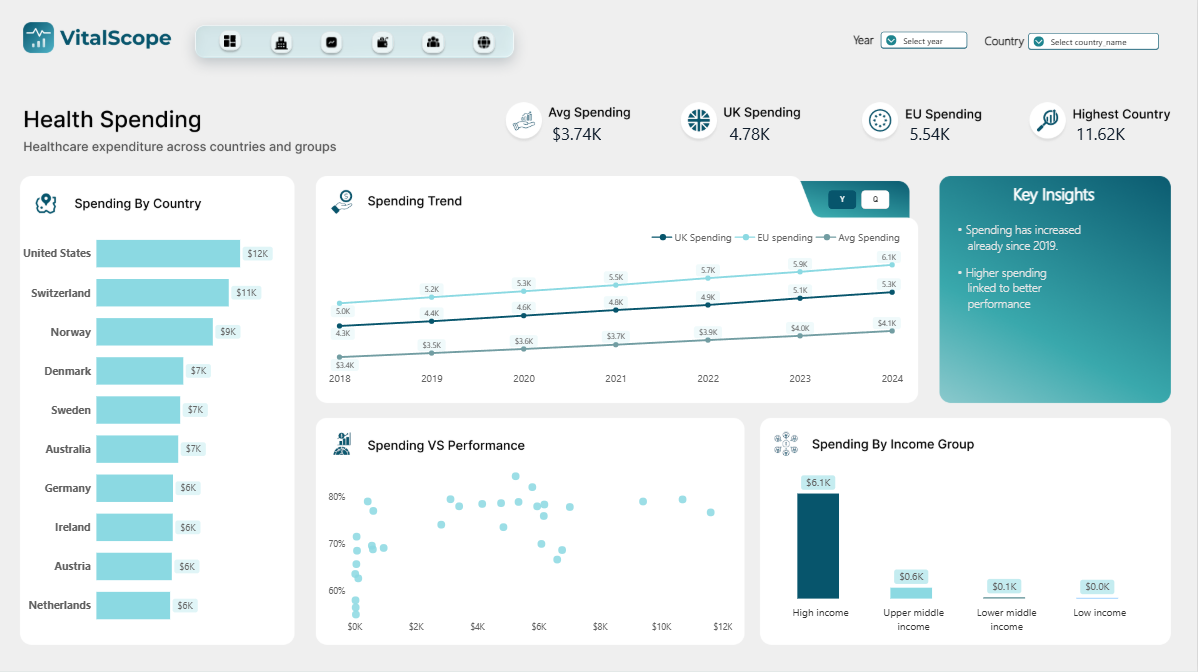

The page's visual inventory and layout, read from the dashboard file:
{"tool":"powerbi","page":{"name":"Health Spending","canvas":[1920,1080],"ordinal":3},"visuals":[{"type":"actionButton","box":[355.6,49.3,34,32.3],"z":0},{"type":"actionButton","box":[438.9,51,34,34],"z":1000},{"type":"actionButton","box":[518.9,51,34,34],"z":2000},{"type":"actionButton","box":[600.6,51,34,34],"z":3000},{"type":"actionButton","box":[680.5,51,35.7,34],"z":4000},{"type":"actionButton","box":[762.2,51,34,34],"z":5000},{"type":"listSlicer","fields":{"Values":["dim_country.country_name"]},"box":[1634.7,40.8,240.8,71],"z":6000},{"type":"textbox","box":[1580,53.3,70,25],"z":7000},{"type":"textbox","box":[1370.2,52.6,57.9,38.6],"z":8000},{"type":"listSlicer","fields":{"Values":["dim_date.year"]},"box":[1398.2,38.6,170.2,70.2],"z":9000},{"type":"textbox","box":[1522.7,338.6,280.7,316.4],"z":10000},{"type":"textbox","box":[1626.8,291.1,189.3,114.3],"z":11000},{"type":"advancedSlicerVisual","fields":{"Values":["trends.trends"]},"box":[1330,306,98,30],"z":12000},{"type":"cardVisual","fields":{"Data":["_Measures.Avg Health Spending"]},"box":[871.1,195.7,148,39.1],"z":13000},{"type":"cardVisual","fields":{"Data":["_Measures.UK Spending"]},"box":[1155.2,195.7,148,39.1],"z":14000},{"type":"cardVisual","fields":{"Data":["_Measures.EU spending"]},"box":[1444.4,195.7,148,39.1],"z":15000},{"type":"cardVisual","fields":{"Data":["_Measures.Highest Country Spending"]},"box":[1709.8,195.7,148,39.1],"z":16000},{"type":"lineChart","fields":{"Category":["dim_date.year"],"Y":["_Measures.UK Spending","_Measures.EU spending","_Measures.Avg Spending"]},"box":[513.9,349.1,952.2,289],"z":17000},{"type":"clusteredBarChart","fields":{"Category":["dim_country.country_name"],"Y":["_Measures.Avg Spending"]},"box":[23.3,337.5,448,696.2],"z":18000},{"type":"scatterChart","fields":{"Category":["dim_country.country_name"],"X":["_Measures.Avg Spending"],"Y":["_Measures.ED Performance"]},"box":[513.9,733.1,678.8,300.6],"z":19000},{"type":"columnChart","fields":{"Category":["dim_country.income_group"],"Y":["_Measures.Avg Spending"]},"box":[1169.8,733.2,707.1,299],"z":20000}]}

Visuals, with their boxes in screenshot pixels (x1, y1, x2, y2), scaled from the page's 1920x1080 canvas onto the 1198x672 screenshot:
actionButton: Rect(222, 31, 243, 51)
actionButton: Rect(274, 32, 295, 53)
actionButton: Rect(324, 32, 345, 53)
actionButton: Rect(375, 32, 396, 53)
actionButton: Rect(425, 32, 447, 53)
actionButton: Rect(476, 32, 497, 53)
listSlicer - dim_country.country_name: Rect(1020, 25, 1170, 70)
textbox: Rect(986, 33, 1030, 49)
textbox: Rect(855, 33, 891, 57)
listSlicer - dim_date.year: Rect(872, 24, 979, 68)
textbox: Rect(950, 211, 1125, 408)
textbox: Rect(1015, 181, 1133, 252)
advancedSlicerVisual - trends.trends: Rect(830, 190, 891, 209)
cardVisual - _Measures.Avg Health Spending: Rect(544, 122, 636, 146)
cardVisual - _Measures.UK Spending: Rect(721, 122, 813, 146)
cardVisual - _Measures.EU spending: Rect(901, 122, 994, 146)
cardVisual - _Measures.Highest Country Spending: Rect(1067, 122, 1159, 146)
lineChart - dim_date.year x _Measures.UK Spending: Rect(321, 217, 915, 397)
clusteredBarChart - dim_country.country_name x _Measures.Avg Spending: Rect(15, 210, 294, 643)
scatterChart - dim_country.country_name x _Measures.Avg Spending: Rect(321, 456, 744, 643)
columnChart - dim_country.income_group x _Measures.Avg Spending: Rect(730, 456, 1171, 642)
